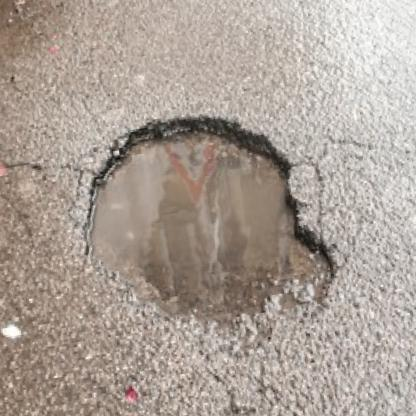pothole: (59, 93, 350, 363)
